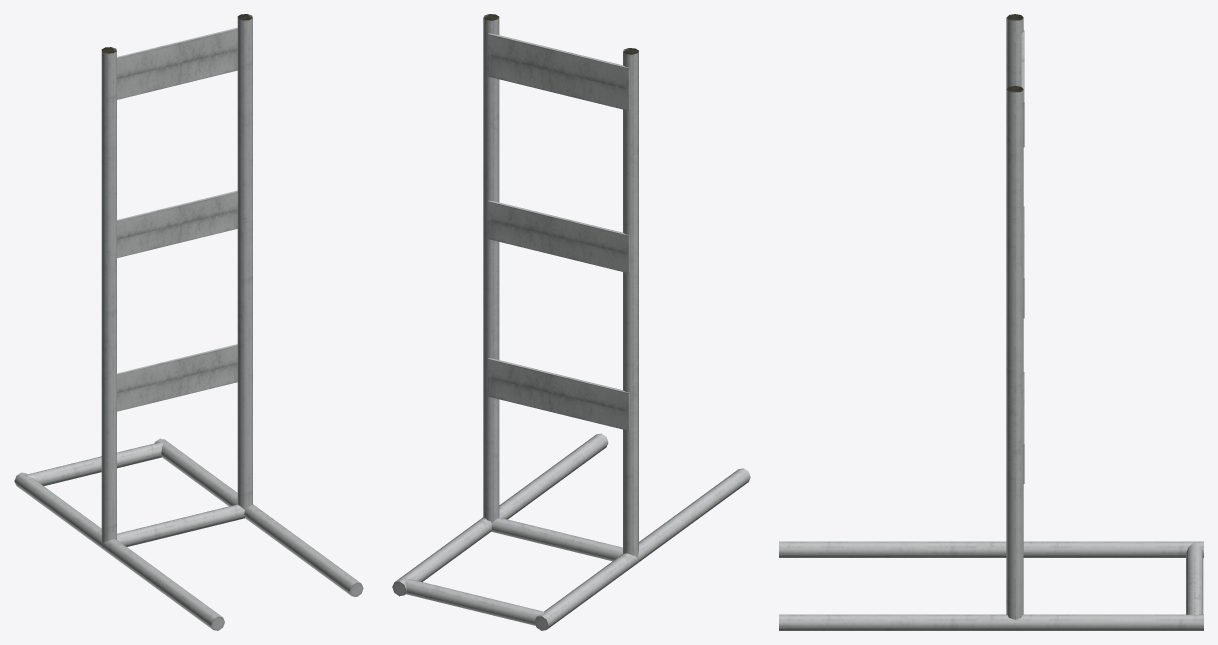
File: TgtTargetStandA5.fbx
3 views of the same model, side by side, from view 1: azimuth 30°, elevation 25°; view 2: azimuth 150°, elevation 25°; view 3: azimuth 270°, elevation 25° (orthographic). The views are drawn at different scales.
Parts seen in each view (by area): view 1: TgtTargetStandA5; view 2: TgtTargetStandA5; view 3: TgtTargetStandA5.
Boxes of the visible parts, left/top/right/bottom form: TgtTargetStandA5: left=14, top=14, right=363, bottom=630; TgtTargetStandA5: left=392, top=14, right=750, bottom=630; TgtTargetStandA5: left=779, top=14, right=1203, bottom=630.
Bounding box in the file's own units: 57.68 × 181 × 129.
Materials: 1 (1 with a texture image).
